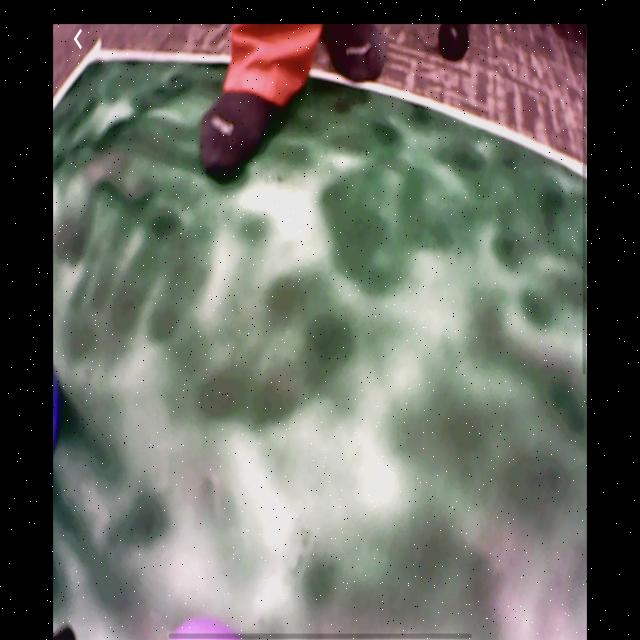ball: (172, 612, 241, 640)
